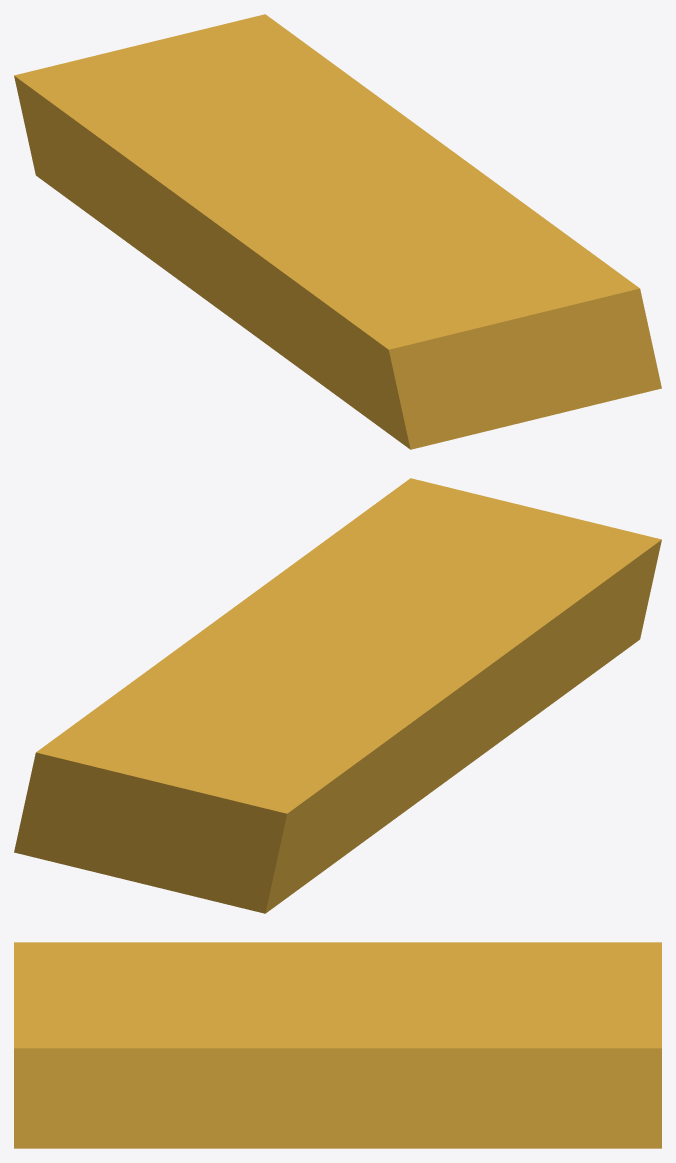
File: Romaco_Yellow.glb
3 renders of one model, top to bottom at view 1: azimuth 30°, elevation 25°; view 2: azimuth 150°, elevation 25°; view 3: azimuth 270°, elevation 25°, orthographic. The views are drawn at different scales.
Visible parts, largest first — view 1: Cube; view 2: Cube; view 3: Cube.
Boxes of the visible parts, <box> form: Cube: <box>14,14,661,449</box>; Cube: <box>14,478,661,913</box>; Cube: <box>14,942,661,1148</box>.
Bounding box in the file's own units: 70.77 × 26.07 × 168.
